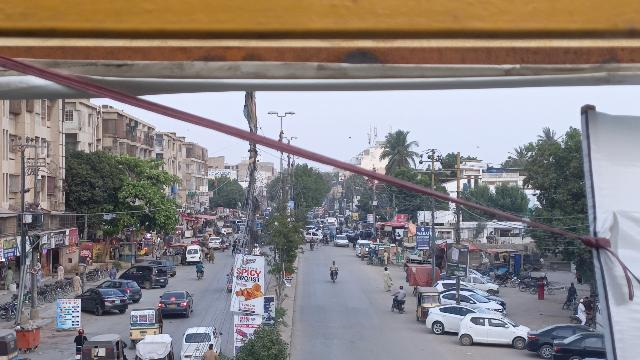Bike: (390, 295, 410, 315), (72, 344, 86, 360), (328, 268, 339, 286), (194, 269, 207, 282)
Car: (457, 311, 528, 349), (526, 323, 590, 359), (426, 304, 490, 336), (550, 328, 605, 360), (73, 286, 129, 317), (440, 291, 506, 316), (179, 325, 221, 360), (119, 263, 170, 289), (157, 288, 195, 319), (98, 278, 143, 300)
Person: (379, 263, 395, 293), (201, 342, 220, 360), (70, 270, 83, 295), (72, 328, 90, 346), (395, 284, 407, 300), (108, 262, 118, 279), (328, 259, 340, 272), (195, 260, 204, 271)
Rickshaw: (129, 307, 164, 348), (83, 332, 127, 360), (133, 333, 173, 360), (413, 285, 439, 324)
Van: (184, 245, 202, 266)
